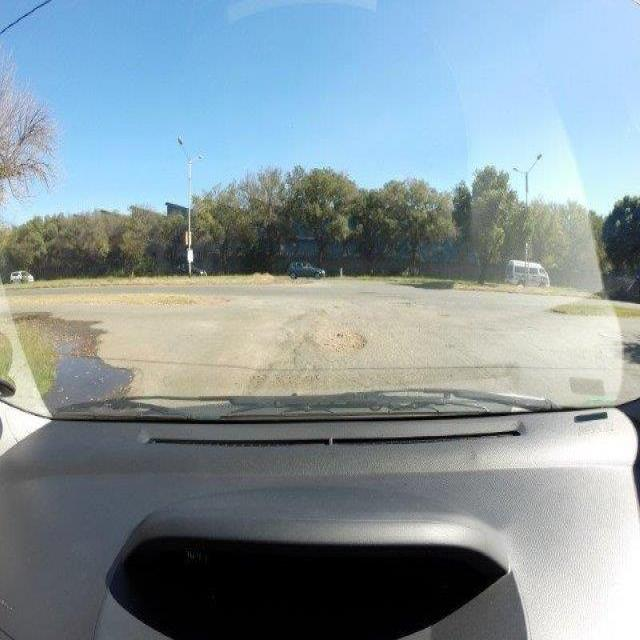lubang: (314, 323, 369, 356)
